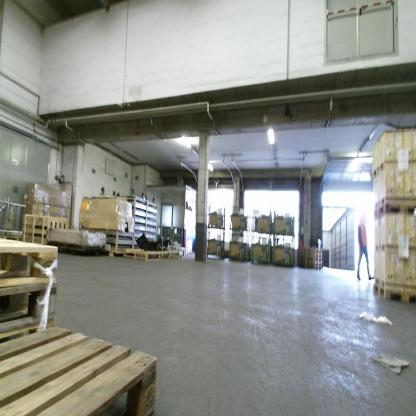pallet: (1, 322, 159, 414), (1, 234, 58, 292), (1, 284, 60, 338), (372, 283, 415, 306), (20, 211, 49, 245), (51, 239, 106, 254), (124, 249, 181, 263), (372, 201, 415, 217), (46, 218, 69, 246), (304, 246, 322, 252), (304, 257, 322, 261), (302, 255, 322, 258), (303, 252, 322, 255), (304, 261, 323, 264), (304, 266, 322, 269), (305, 263, 322, 266)
stillage: (249, 231, 271, 270), (228, 228, 252, 261), (272, 208, 297, 238), (252, 204, 274, 238), (228, 201, 251, 233), (272, 237, 296, 267), (205, 227, 226, 260), (207, 205, 226, 230)
